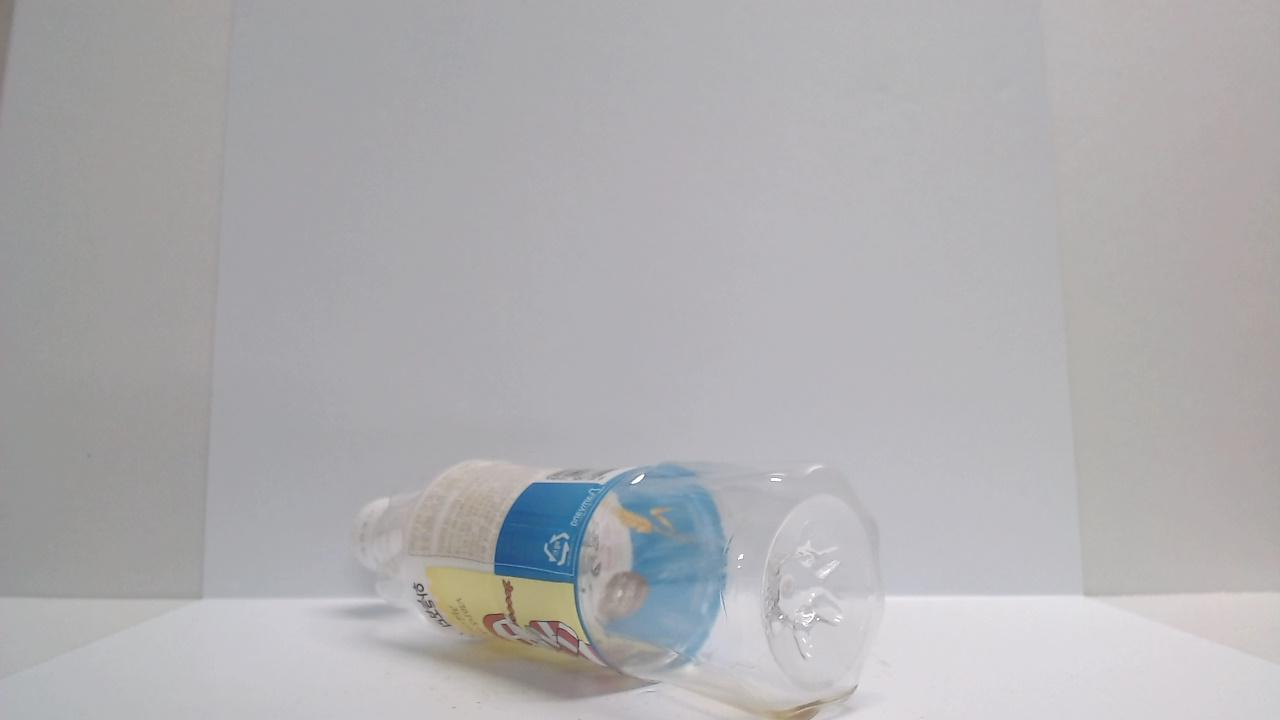bottle: (342, 424, 928, 714)
